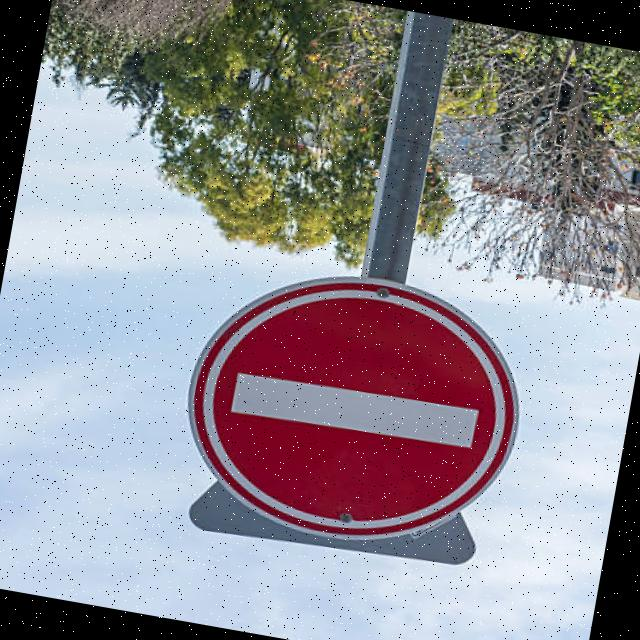do_not_enter: (154, 236, 554, 575)
